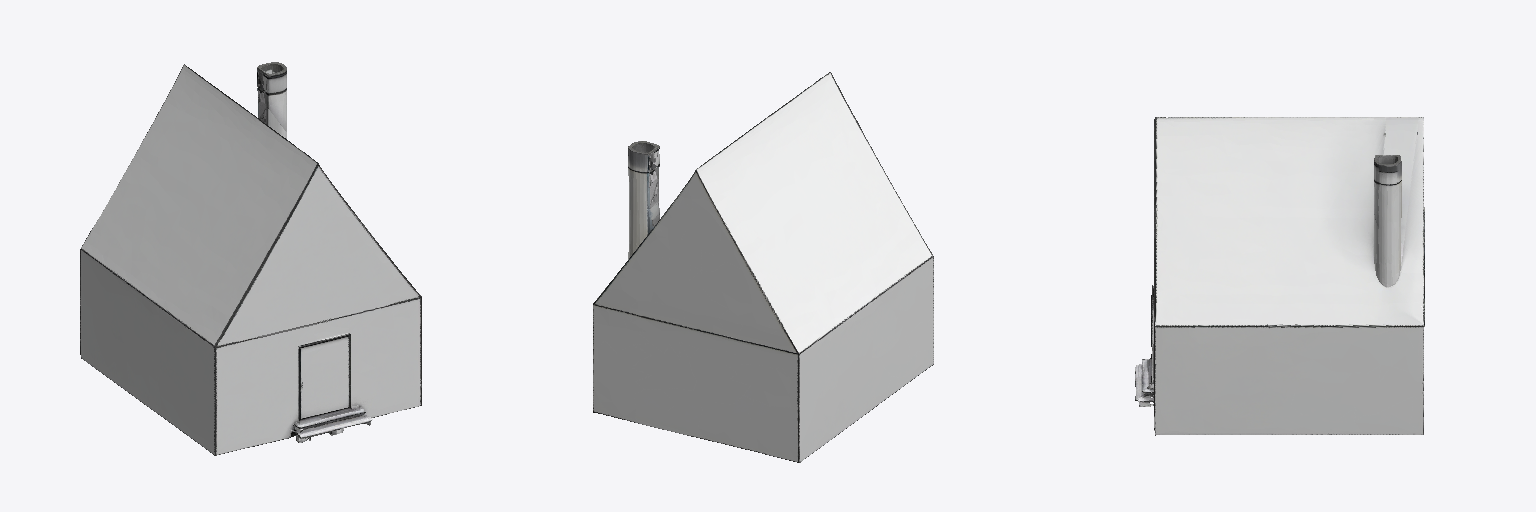
3 views of the same model, side by side, from view 1: azimuth 30°, elevation 25°; view 2: azimuth 150°, elevation 25°; view 3: azimuth 270°, elevation 25° (orthographic).
Parts seen in each view (by area): view 1: Monochrome_House_Stud_[number redacted]_texture; view 2: Monochrome_House_Stud_[number redacted]_texture; view 3: Monochrome_House_Stud_[number redacted]_texture.
Boxes of the visible parts, x1,y1,x2,y2 form: Monochrome_House_Stud_[number redacted]_texture: [80, 62, 421, 455]; Monochrome_House_Stud_[number redacted]_texture: [593, 72, 933, 462]; Monochrome_House_Stud_[number redacted]_texture: [1135, 117, 1424, 435].
Size of the model in its own units: 1.55 by 2 by 1.88.
1 materials, 1 textured.